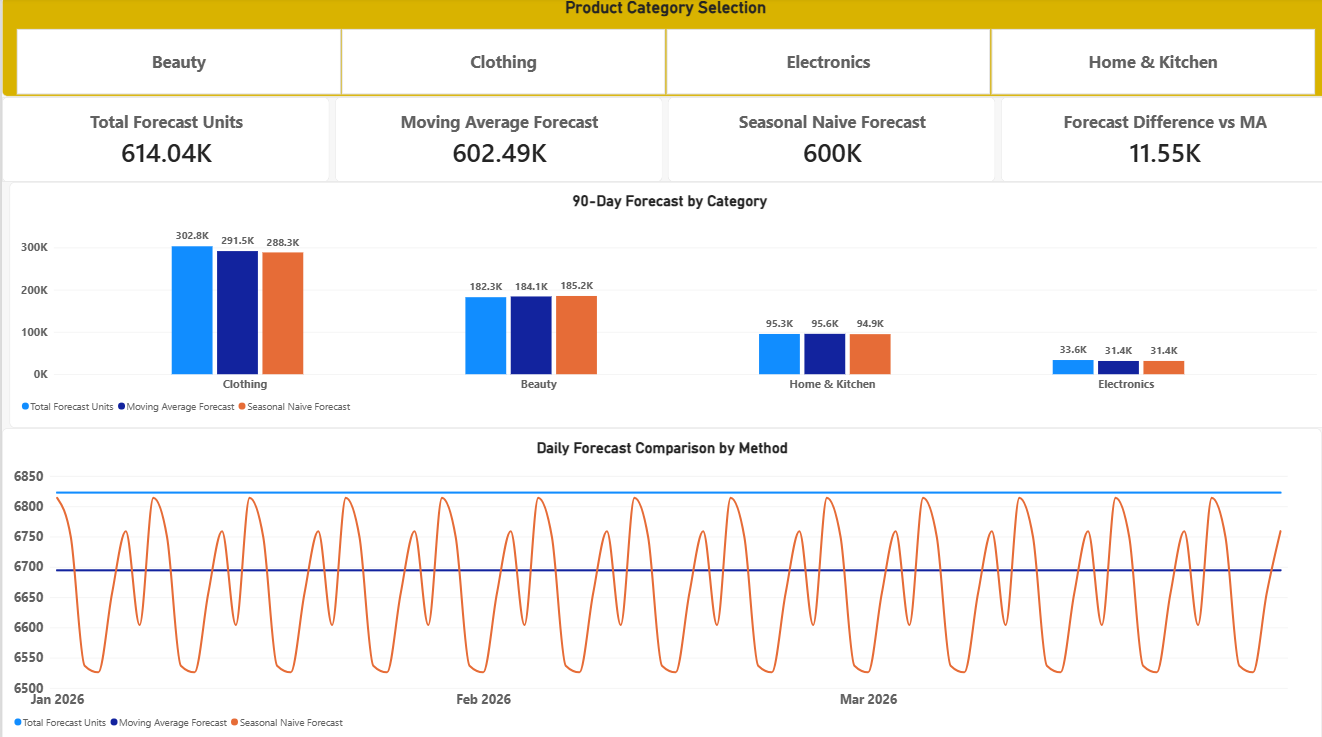

The page's visual inventory and layout, read from the dashboard file:
{"tool":"powerbi","page":{"name":"Forecast Overview","canvas":[1920,1080],"ordinal":0},"visuals":[{"type":"cardVisual","fields":{"Data":["Daily_SKU_Forecast.Total Forecast Units","Daily_SKU_Forecast.Moving Average Forecast","Daily_SKU_Forecast.Seasonal Naive Forecast","Daily_SKU_Forecast.Forecast Difference vs MA"]},"box":[0,144.1,1920.4,123.5],"z":0},{"type":"clusteredColumnChart","title":"90-Day Forecast by Category","fields":{"Category":["DimCategory.Category"],"Y":["Daily_SKU_Forecast.Total Forecast Units","Daily_SKU_Forecast.Moving Average Forecast","Daily_SKU_Forecast.Seasonal Naive Forecast"]},"box":[10.3,267.6,1910.1,356.1],"z":1000},{"type":"lineChart","title":"Daily Forecast Comparison by Method","fields":{"Category":["DimDate.Date"],"Y":["Daily_SKU_Forecast.Total Forecast Units","Daily_SKU_Forecast.Moving Average Forecast","Daily_SKU_Forecast.Seasonal Naive Forecast"]},"box":[0,623.7,1910.1,456.9],"z":2000},{"type":"slicer","title":"Product Category Selection","fields":{"Values":["DimCategory.Category"]},"box":[0,0,1920.4,144.1],"z":3000}]}

Visuals, with their boxes in screenshot pixels (x1, y1, x2, y2), scaled from the page's 1920x1080 canvas onto the 1322x737 screenshot:
cardVisual - Daily_SKU_Forecast.Total Forecast Units x Daily_SKU_Forecast.Moving Average Forecast: [0,98,1321,183]
"90-Day Forecast by Category" clusteredColumnChart: [7,183,1321,426]
"Daily Forecast Comparison by Method" lineChart: [0,426,1315,736]
"Product Category Selection" slicer: [0,0,1321,98]
